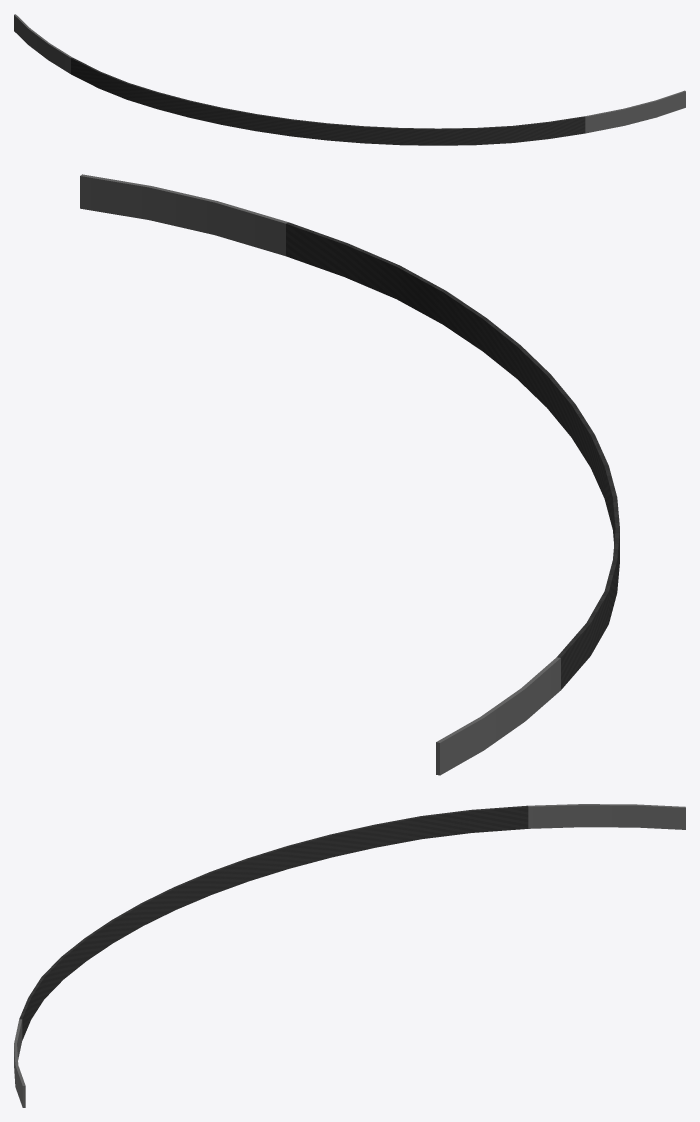
The model's file is fence_turn.fbx.
3 renders of one model, top to bottom at view 1: azimuth 30°, elevation 25°; view 2: azimuth 150°, elevation 25°; view 3: azimuth 270°, elevation 25°, orthographic. The views are drawn at different scales.
Visible parts, largest first — view 1: polySurface38; view 2: polySurface38; view 3: polySurface38.
Part boxes in pixels (x1,y1,x2,y2): polySurface38: (14,14,685,145); polySurface38: (80,174,619,775); polySurface38: (14,804,685,1107).
Size of the model in its own units: 7995 by 290 by 8052.
